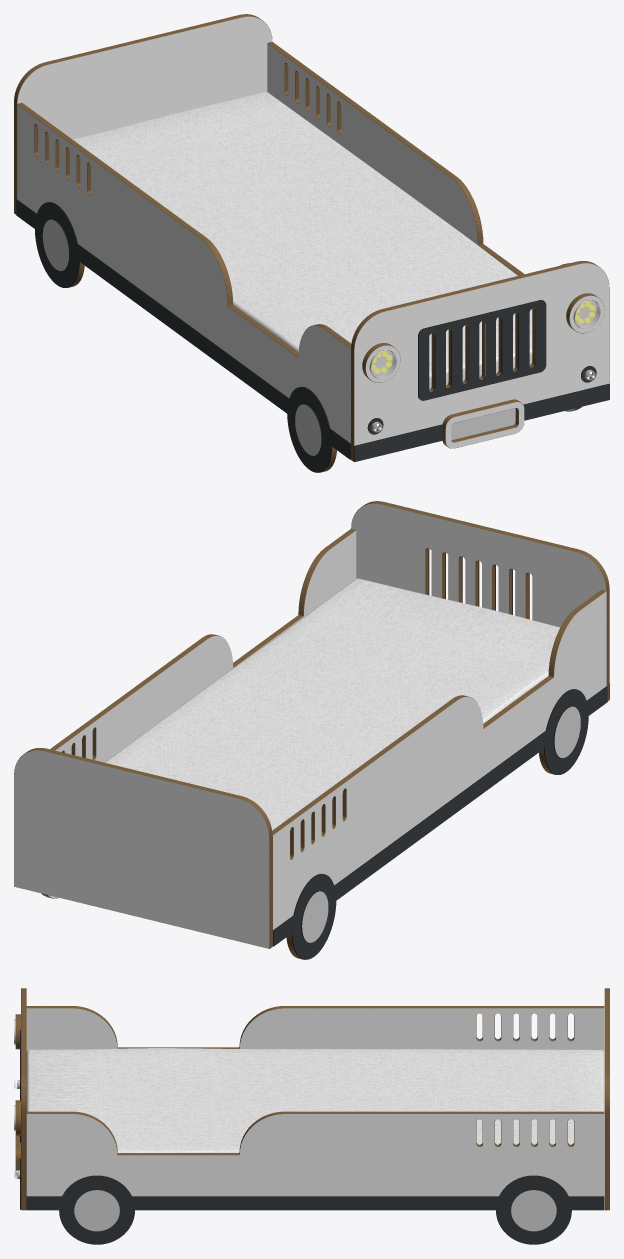
The model's file is Bed190x80.glb.
The picture shows the model from 3 angles, top to bottom: view 1: azimuth 30°, elevation 25°; view 2: azimuth 150°, elevation 25°; view 3: azimuth 270°, elevation 25°; orthographic projection. The views are drawn at different scales.
Parts seen in each view (by area): view 1: Bed190x80; view 2: Bed190x80; view 3: Bed190x80.
Boxes of the visible parts, x1,y1,x2,y2 form: Bed190x80: (14,14,609,472); Bed190x80: (14,501,609,959); Bed190x80: (14,988,609,1244).
Bounding box in the file's own units: 0.852 × 0.575 × 1.96.
Materials: 17 (4 with a texture image).
